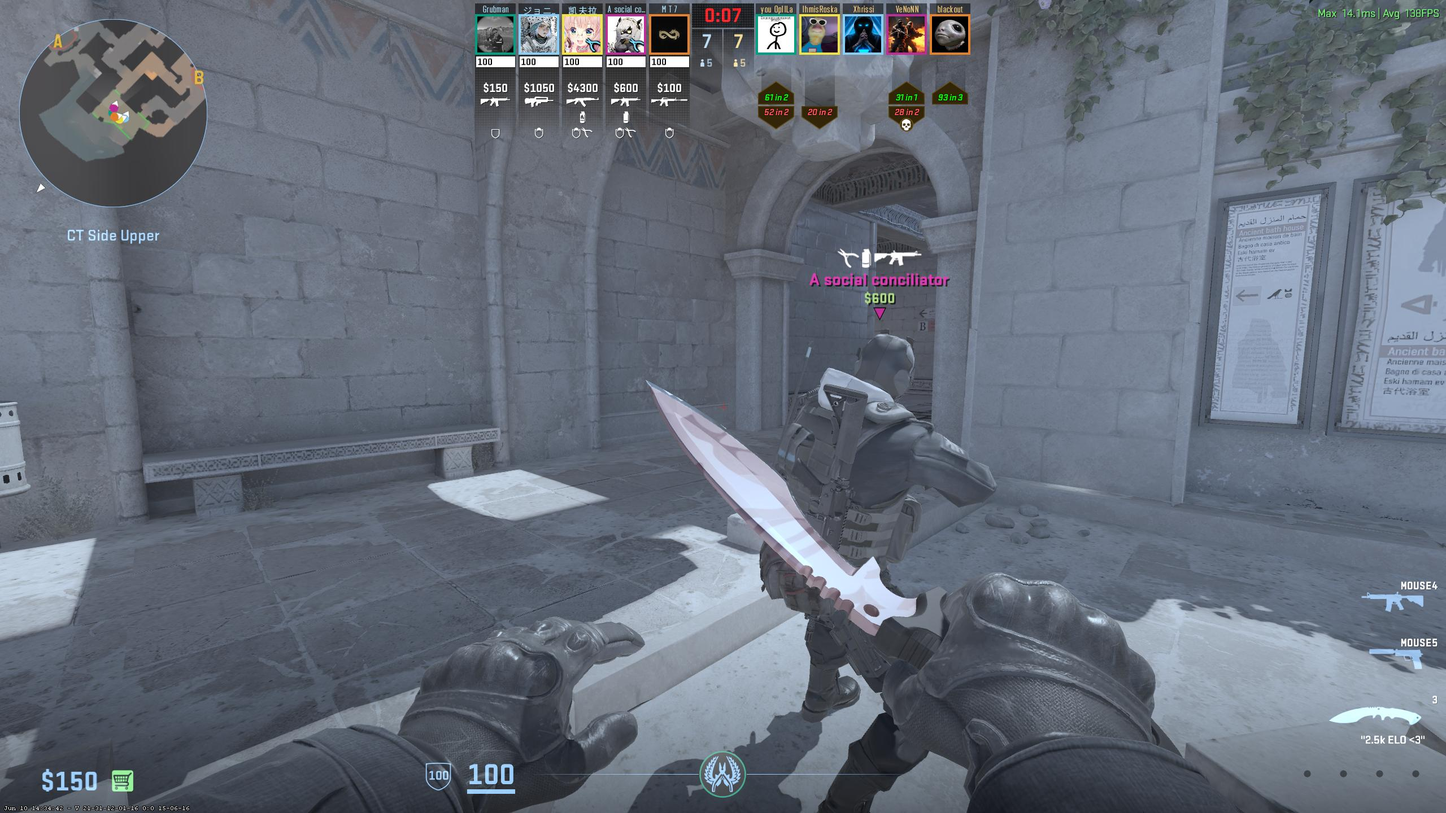CT: (755, 360, 1003, 799)
